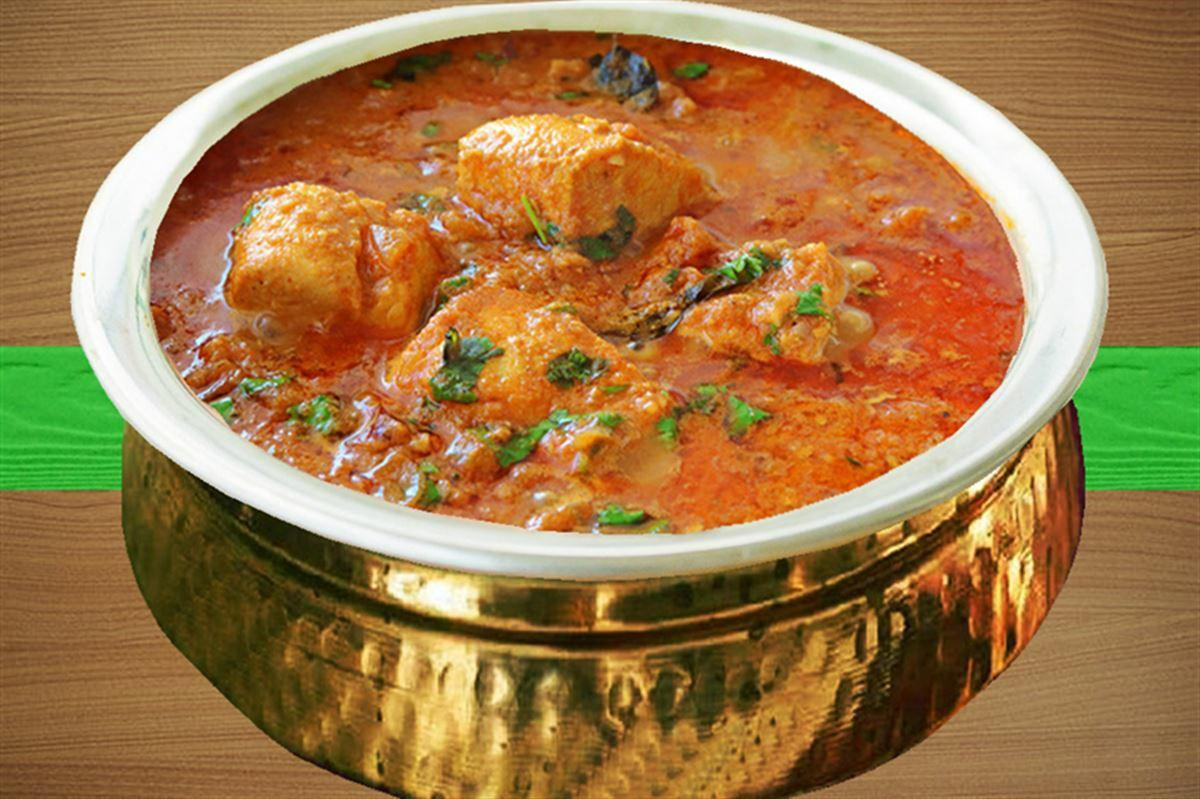FishCurry: (147, 26, 1026, 536)
